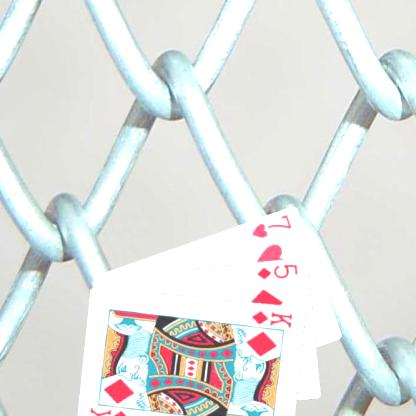5D: (254, 260, 299, 280)
7H: (249, 211, 294, 239)
KD: (249, 307, 294, 329), (86, 404, 131, 416)
